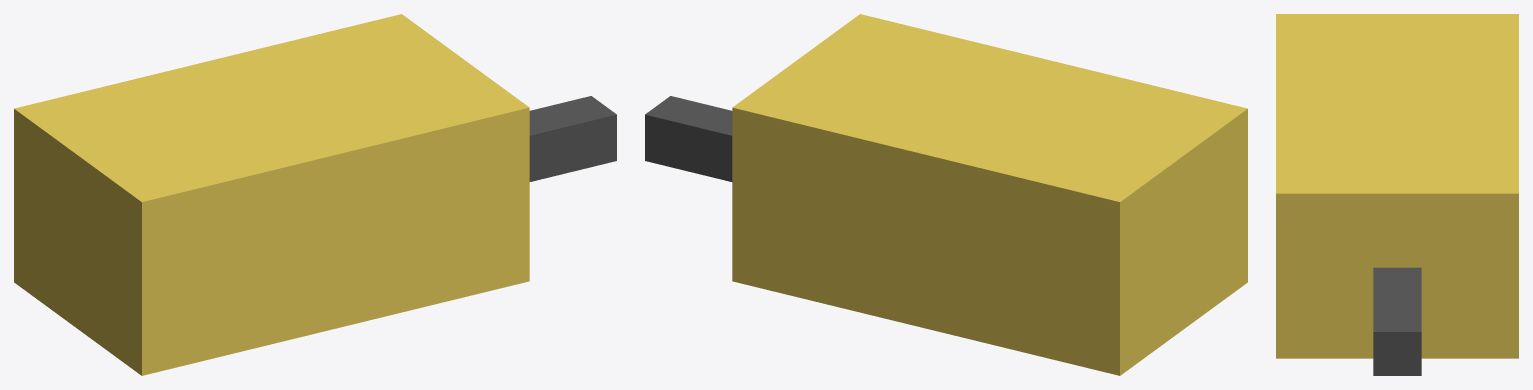
The model's file is pallet_jack.glb.
The picture shows the model from 3 angles, left to right: view 1: azimuth 30°, elevation 25°; view 2: azimuth 150°, elevation 25°; view 3: azimuth 270°, elevation 25°; orthographic projection. The views are drawn at different scales.
Visible parts, largest first — view 1: jack, jackarm; view 2: jack, jackarm; view 3: jack, jackarm.
Part boxes in pixels (<box>): jack: <box>14,14,529,375</box>; jackarm: <box>529,96,616,181</box>; jack: <box>732,14,1247,375</box>; jackarm: <box>645,96,732,181</box>; jack: <box>1276,14,1518,358</box>; jackarm: <box>1373,267,1421,375</box>.
Bounding box in the file's own units: 1.9 × 0.5996 × 0.7998.
